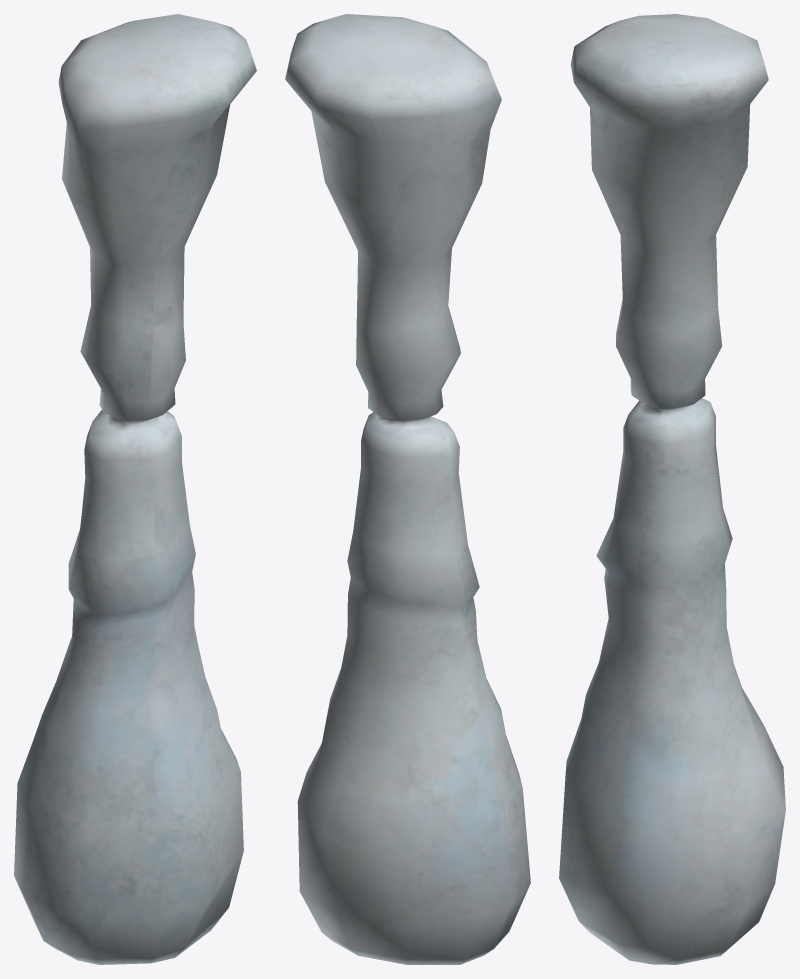
The model's file is P_RockDesert_Hoodoo05.obj.
The picture shows the model from 3 angles, left to right: view 1: azimuth 30°, elevation 25°; view 2: azimuth 150°, elevation 25°; view 3: azimuth 270°, elevation 25°; orthographic projection. The views are drawn at different scales.
Bounding box in the file's own units: 5.23 × 20.38 × 4.6.
